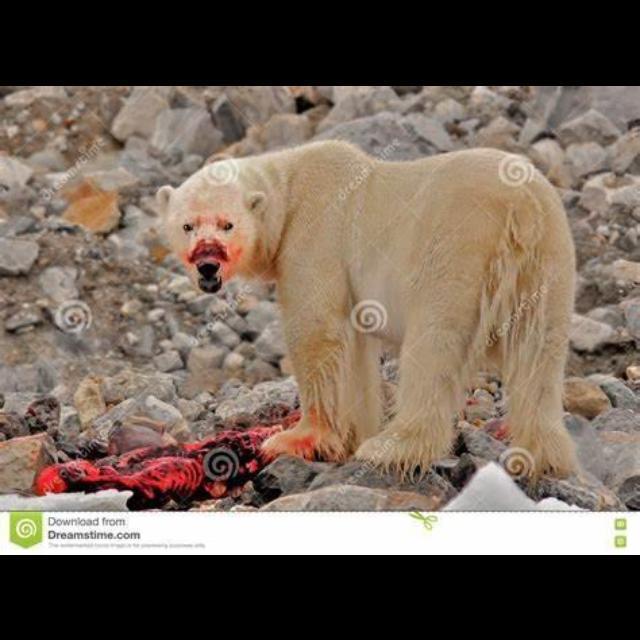blood: (34, 405, 317, 510), (171, 221, 244, 290)
